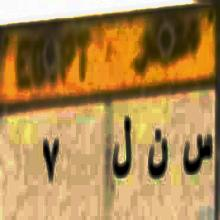7: (40, 126, 62, 194)
laam: (112, 111, 136, 186)
noon: (147, 129, 169, 192)
seen: (180, 124, 212, 187)
